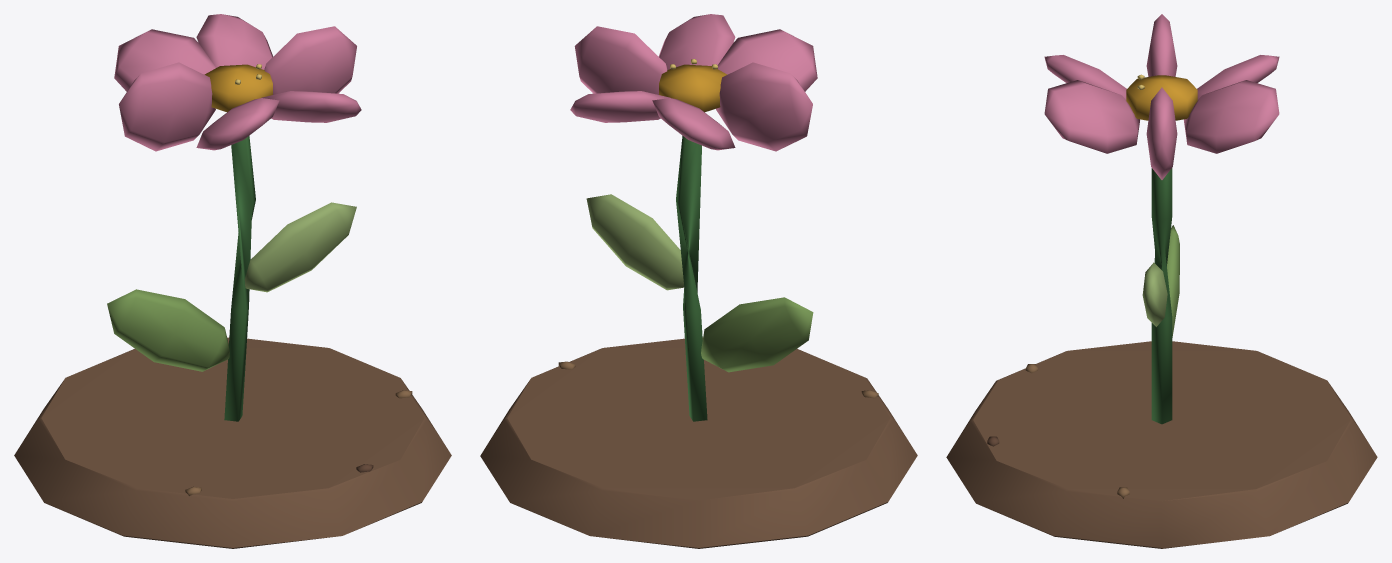
The model's file is flower_stage3_pink_low.glb.
3 views of the same model, side by side, from view 1: azimuth 30°, elevation 25°; view 2: azimuth 150°, elevation 25°; view 3: azimuth 270°, elevation 25° (orthographic).
Size of the model in its own units: 0.3784 by 0.3889 by 0.3782.
